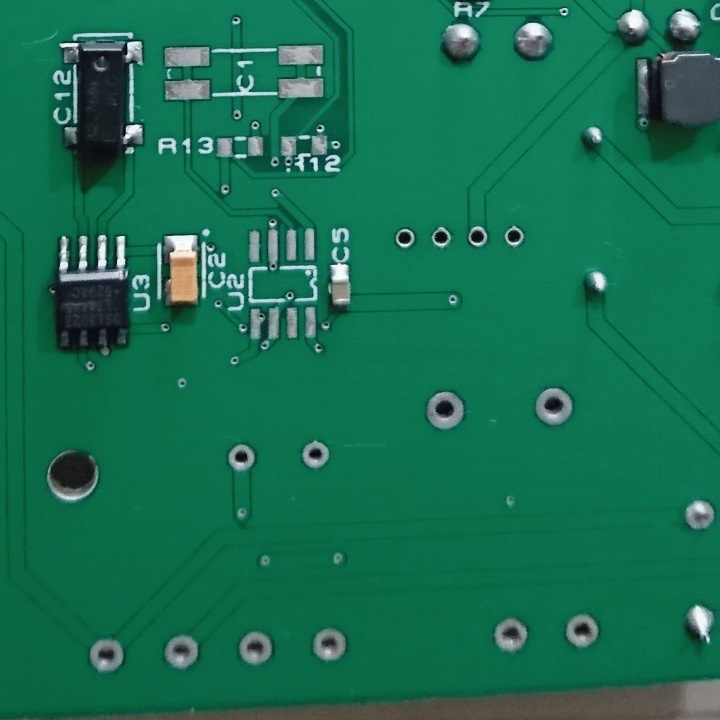F: (529, 383, 576, 431), (423, 388, 468, 436), (84, 634, 129, 675), (489, 614, 531, 656), (236, 628, 277, 669), (563, 610, 603, 652), (310, 624, 350, 666), (163, 631, 201, 672), (681, 498, 716, 533), (297, 436, 331, 472), (226, 443, 261, 473), (501, 223, 527, 254), (465, 225, 491, 252), (428, 225, 453, 251), (393, 226, 415, 251)
